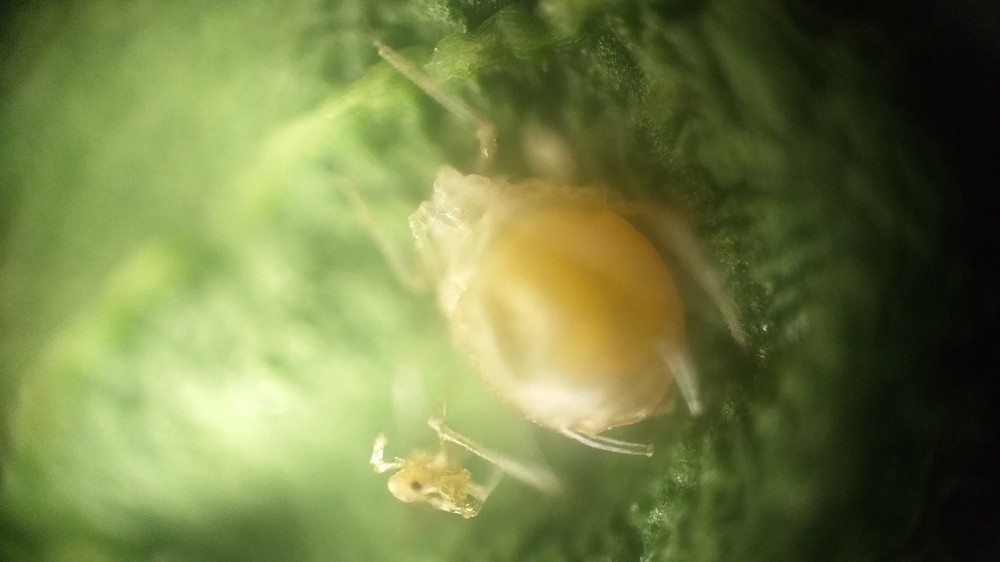Pulgon: (337, 49, 742, 469)
